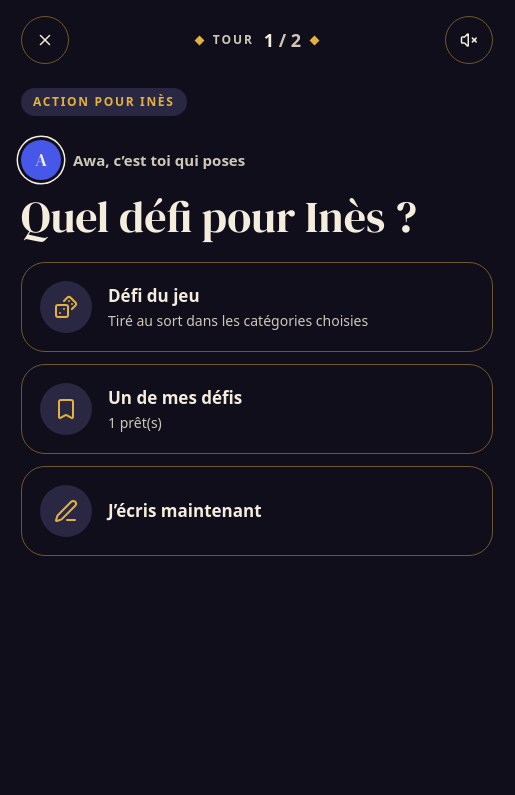
it: the asker can write a dare on the spot
This screenshot has width=515, height=795.
Click the button "J’écris maintenant" at (257, 511), box [21, 466, 493, 556]
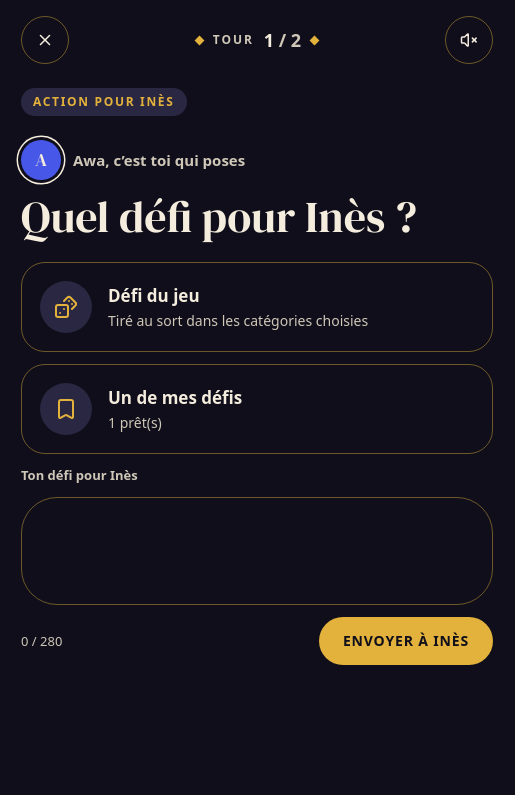
Type "Imite un pingouin" into the text box labelled "Ton défi pour Inès" at (257, 551), box [21, 497, 493, 605]
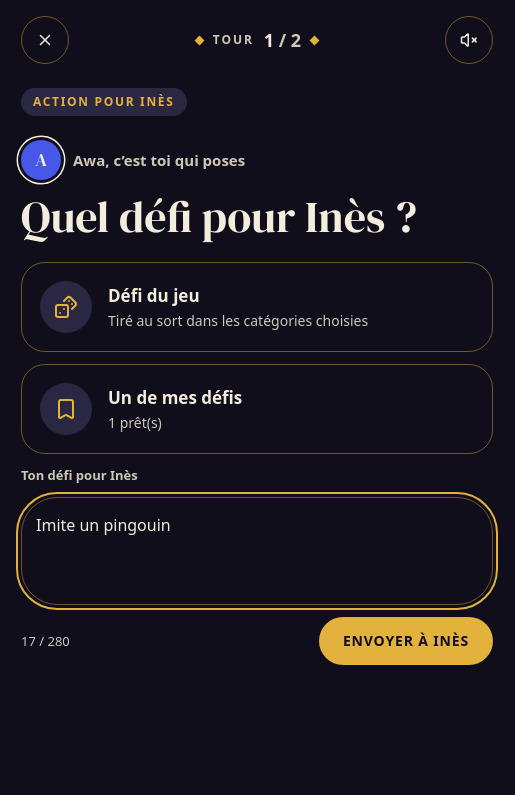
Click the button "Envoyer à Inès" at (406, 641), box [319, 617, 493, 665]
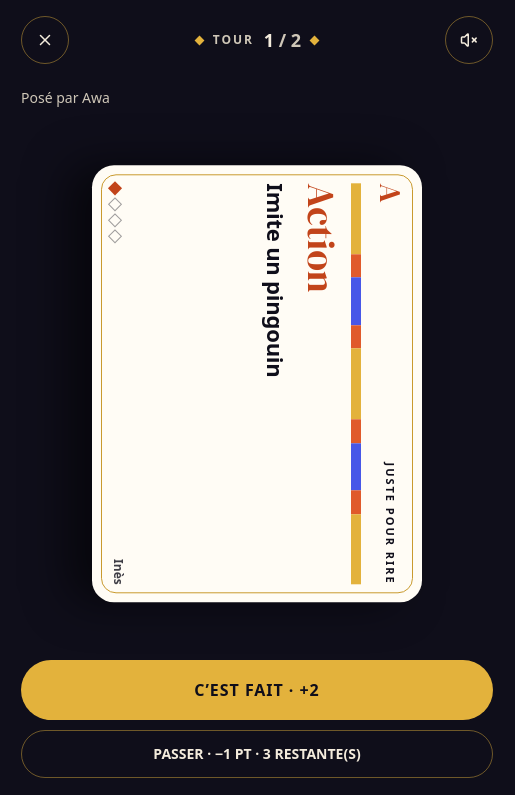
Expected: the text "Imite un pingouin" is shown, [261, 183, 291, 378]
